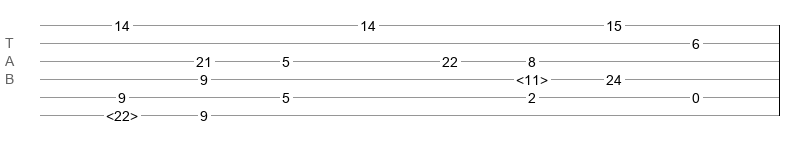0: (692, 90, 700, 100)
14: (114, 18, 130, 28), (360, 18, 376, 28)
15: (606, 18, 622, 28)
2: (528, 90, 536, 100)
21: (196, 54, 212, 64)
22: (442, 54, 458, 64)
24: (606, 72, 622, 82)
5: (282, 54, 290, 64), (282, 90, 290, 100)
6: (692, 36, 700, 46)
8: (528, 54, 536, 64)
9: (118, 90, 126, 100), (200, 108, 208, 118), (200, 72, 208, 82)
harmonic: (106, 108, 138, 118), (516, 72, 548, 82)
